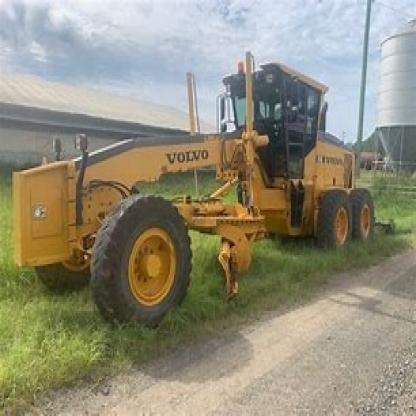bull_dozer/loader/grader: (8, 45, 377, 329)
